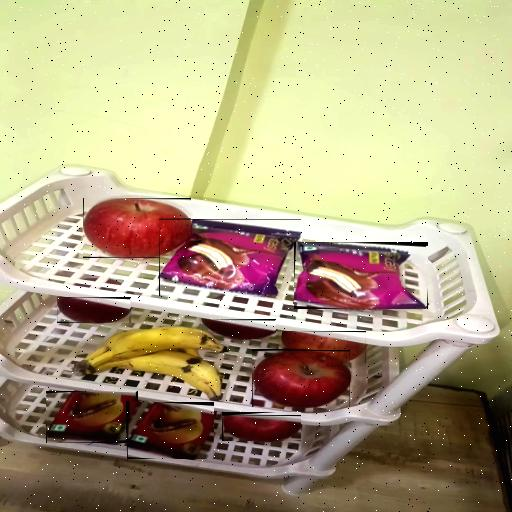Apple: (83, 198, 191, 258), (252, 351, 350, 407), (282, 331, 366, 363), (222, 415, 301, 441), (58, 297, 130, 323), (203, 319, 275, 339)
Choco Fills: (128, 402, 214, 459), (47, 392, 137, 442)
Choco Pie: (161, 220, 301, 296), (294, 242, 426, 309)
